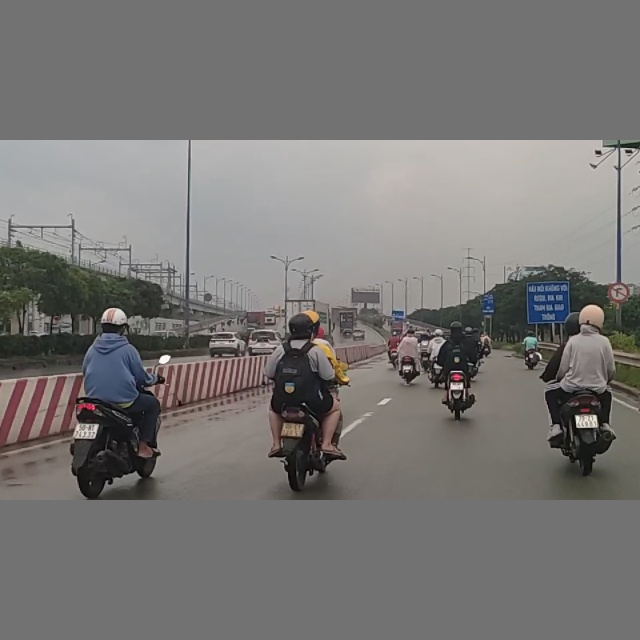P.123b: (608, 283, 630, 303)
